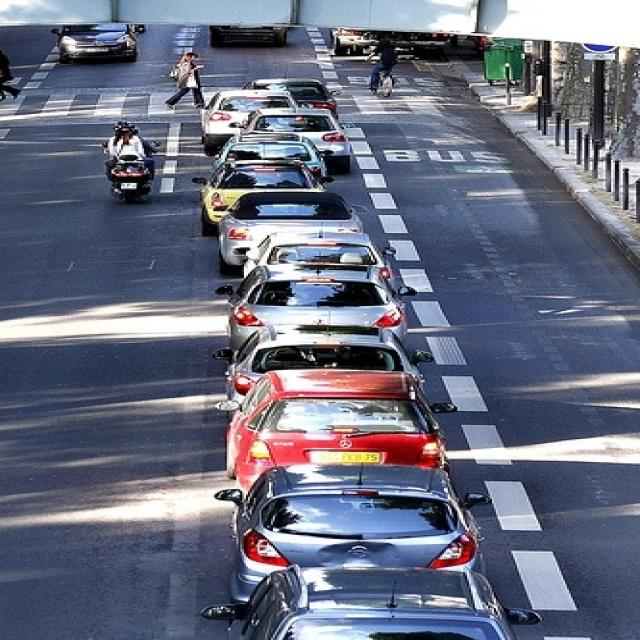Carro Amarelo: (200, 161, 330, 217)
Carro Branco: (204, 88, 305, 138)
Carro Cinza: (219, 464, 494, 588), (234, 560, 524, 640)
Carro Prata: (204, 136, 339, 189), (224, 110, 357, 160)
Carro Preto: (241, 76, 339, 122)
Carro Vermelho: (225, 369, 453, 506)
Van Prata: (220, 275, 416, 344), (214, 332, 432, 394), (228, 233, 405, 298), (218, 191, 370, 255)
